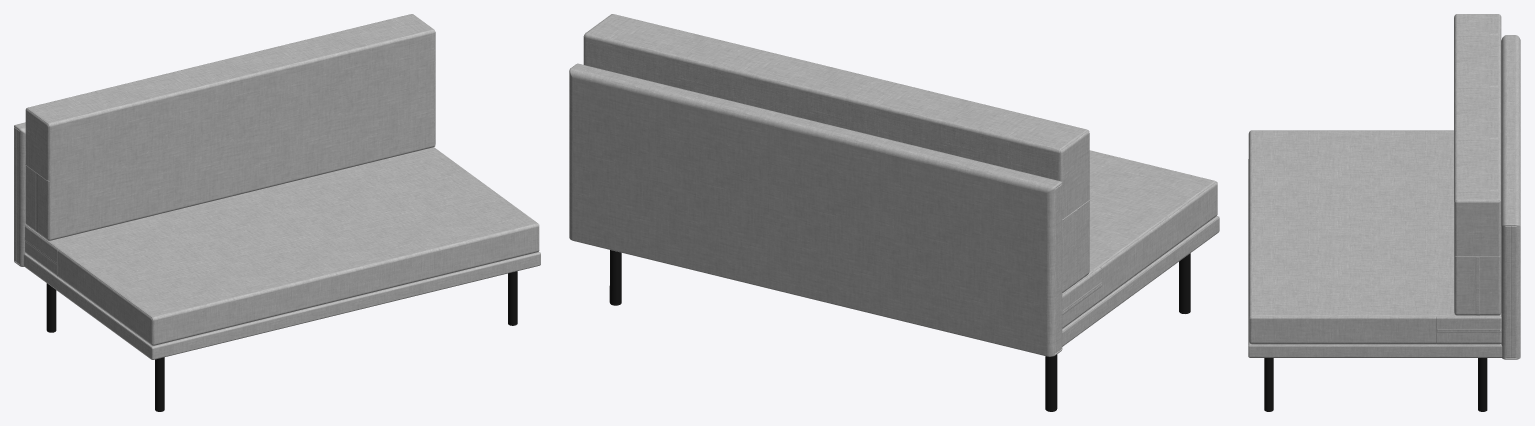
The model's file is Sofa-1400.glb.
The picture shows the model from 3 angles, left to right: view 1: azimuth 30°, elevation 25°; view 2: azimuth 150°, elevation 25°; view 3: azimuth 270°, elevation 25°; orthographic projection. The views are drawn at different scales.
Parts seen in each view (by area): view 1: Body1.315, Body2.013; view 2: Body1.315, Body2.013; view 3: Body1.315, Body2.013.
Boxes of the visible parts, <box> form: Body1.315: <box>14,14,540,359</box>; Body2.013: <box>46,271,517,410</box>; Body1.315: <box>569,14,1219,356</box>; Body2.013: <box>609,250,1190,410</box>; Body1.315: <box>1248,14,1520,359</box>; Body2.013: <box>1264,358,1487,410</box>.
Bounding box in the file's own units: 1.43 × 0.7664 × 0.867.
Materials: 5 (2 with a texture image).
